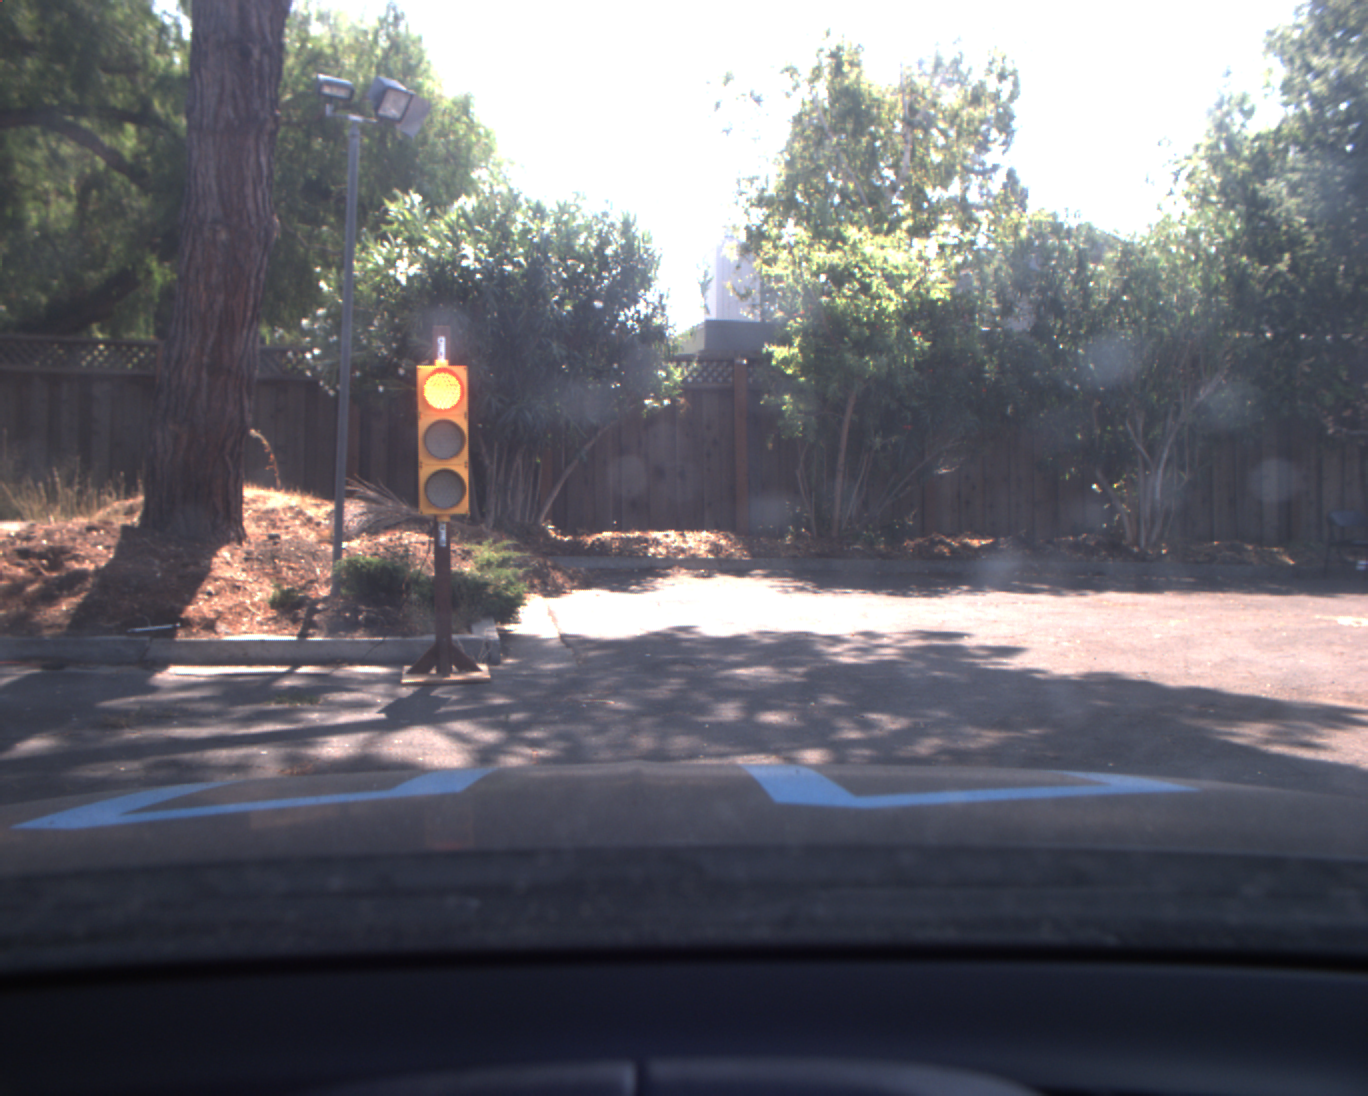red: (413, 362, 474, 523)
